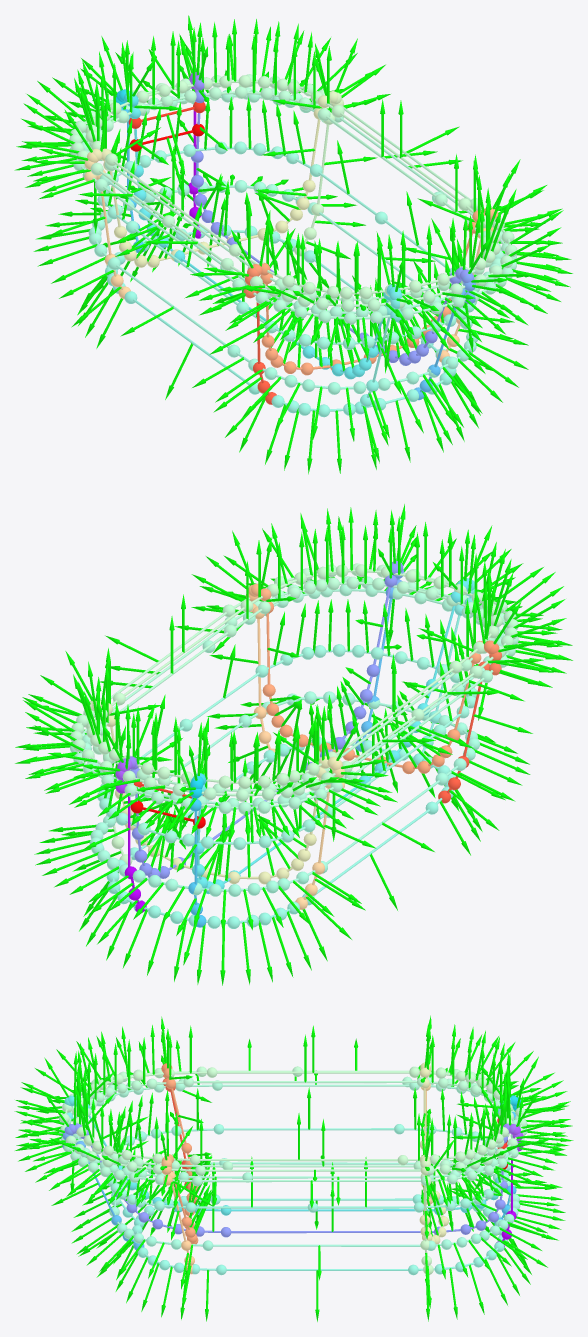
File: flowrep_bathtub.gltf
3 renders of one model, top to bottom at view 1: azimuth 30°, elevation 25°; view 2: azimuth 150°, elevation 25°; view 3: azimuth 270°, elevation 25°, orthographic. The views are drawn at different scales.
Bounding box in the file's own units: 0.6387 × 0.4396 × 1.05.
